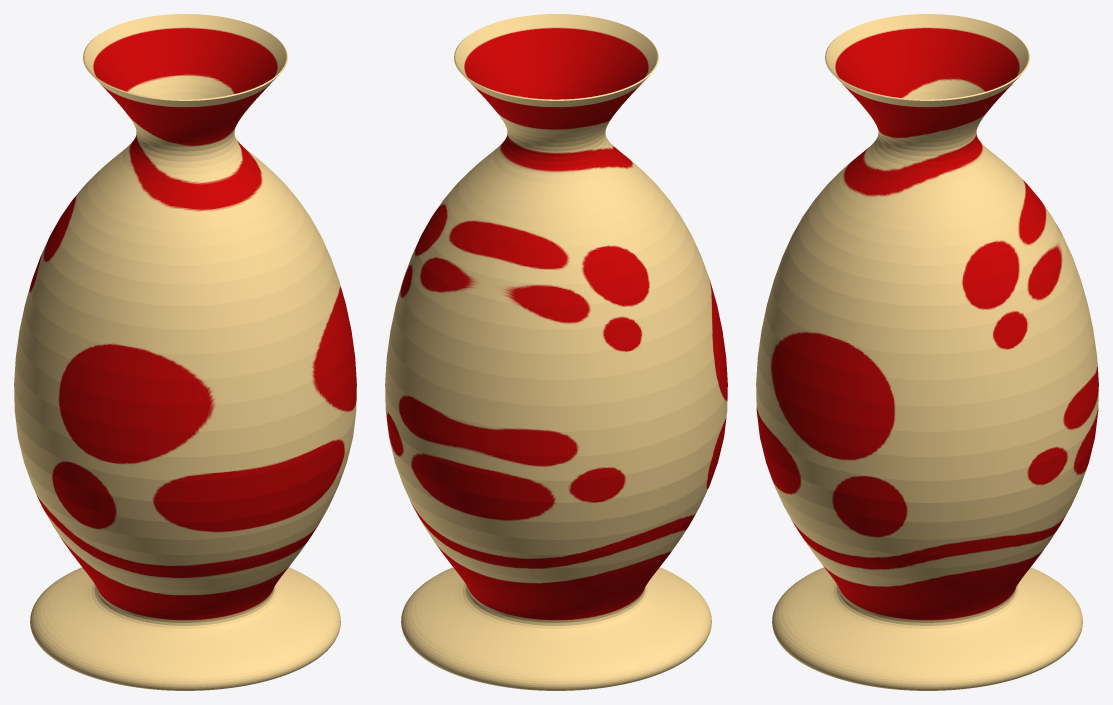
Rendered from vase.obj.
The picture shows the model from 3 angles, left to right: view 1: azimuth 30°, elevation 25°; view 2: azimuth 150°, elevation 25°; view 3: azimuth 270°, elevation 25°; orthographic projection.
Parts seen in each view (by area): view 1: Circle; view 2: Circle; view 3: Circle.
Part boxes in pixels (<box>): Circle: <box>14,14,356,690</box>; Circle: <box>385,14,727,690</box>; Circle: <box>756,14,1098,690</box>.
Size of the model in its own units: 1.13 by 2.08 by 1.13.
Materials: 1 (1 with a texture image).
